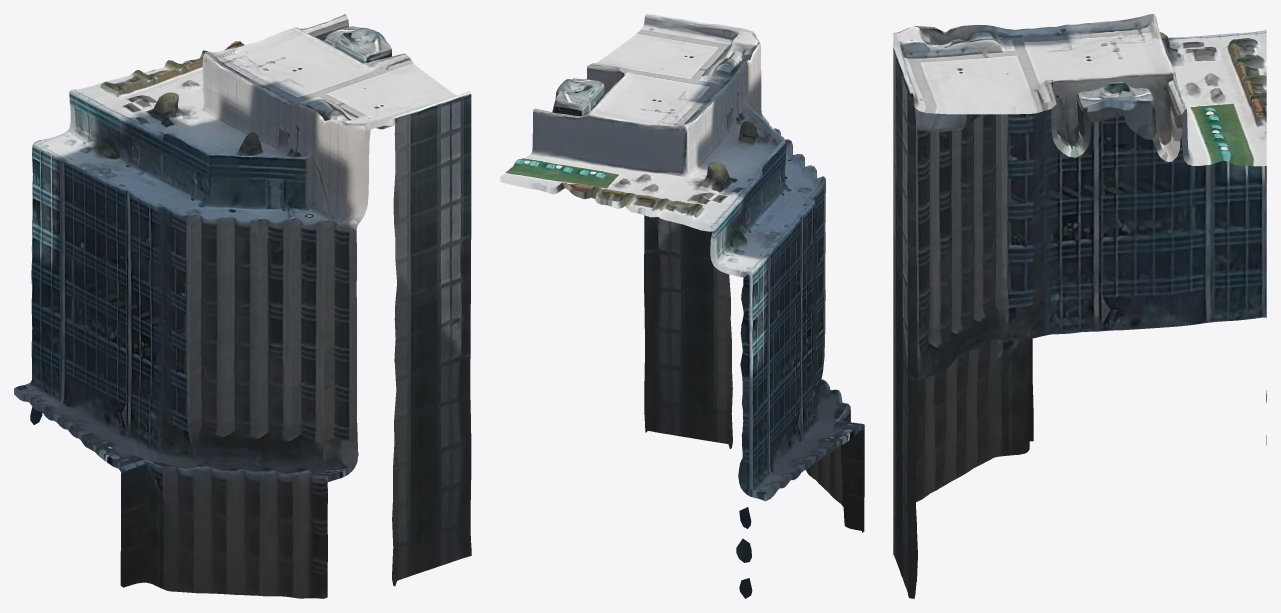
File: z20-167762-405236-h1-yup-uvflip-v3-world.glb
3 renders of one model, left to right at view 1: azimuth 30°, elevation 25°; view 2: azimuth 150°, elevation 25°; view 3: azimuth 270°, elevation 25°, orthographic. The views are drawn at different scales.
Bounding box in the file's own units: 30.16 × 46.04 × 30.32.
1 material, 1 textured.
